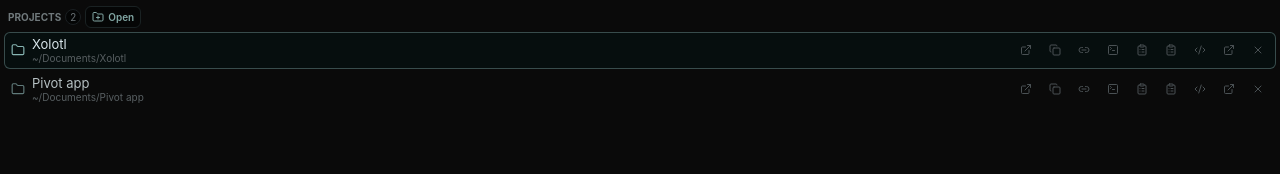
Test: ProjectsSection › shows recovery guidance when the external editor handoff fails
Click the button named "Open Xolotl in external editor": click(1200, 50) [1189,39,1211,61]
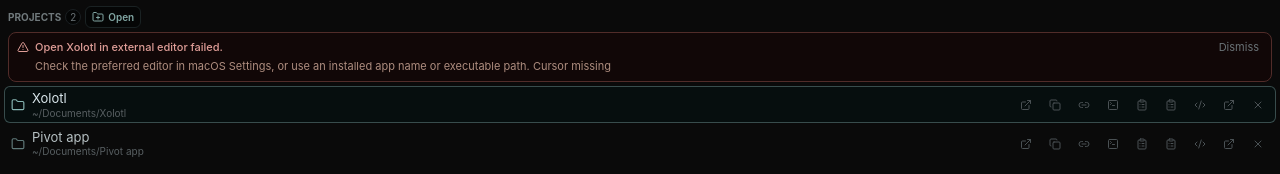
Result: the text "Open Xolotl in external editor failed." is shown at [35,40,223,54]
Result: the text "Cursor missing" is shown at [35,58,611,72]
